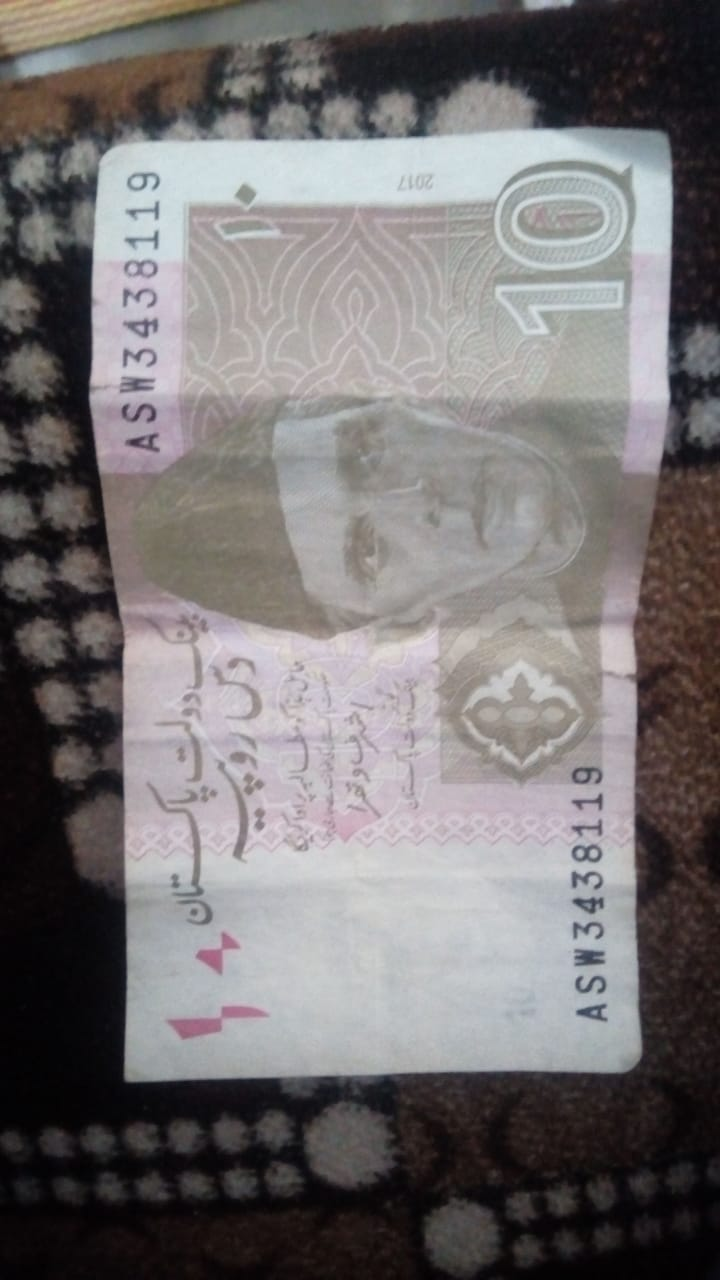10 rupee: (88, 142, 660, 1076)
